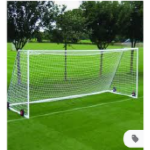goals: (9, 47, 139, 119)
